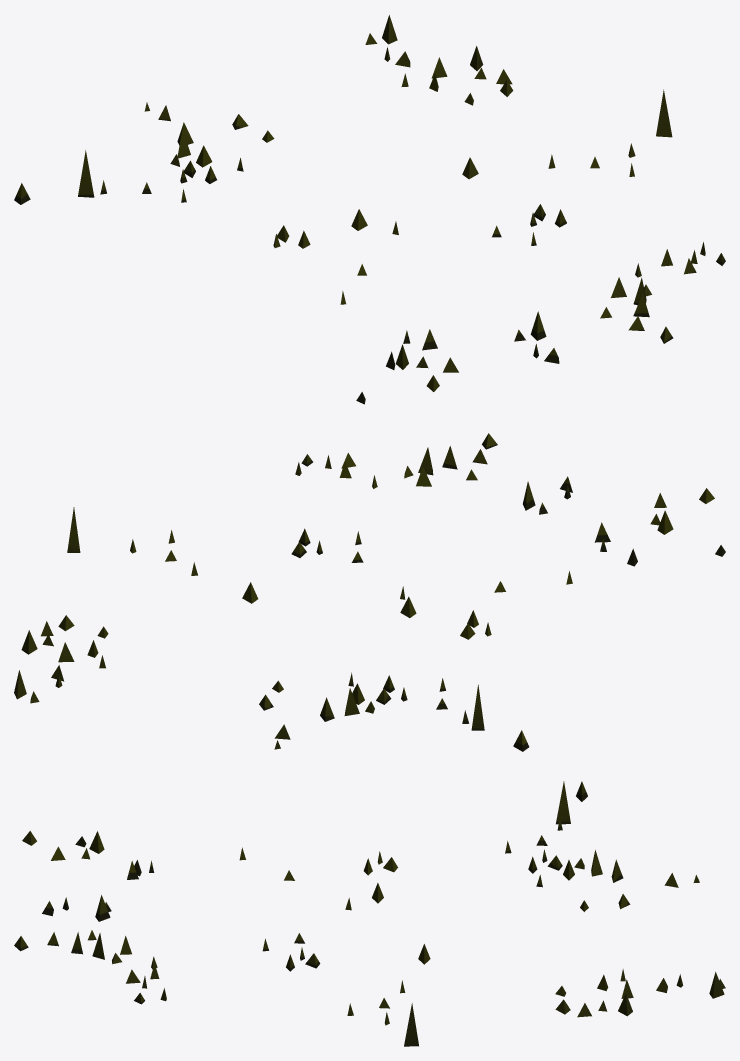
Rendered from Plant_01.FBX.
3 renders of one model, top to bottom at view 1: azimuth 30°, elevation 25°; view 2: azimuth 150°, elevation 25°; view 3: azimuth 270°, elevation 25°, orthographic. The views are drawn at different scales.
Parts seen in each view (by area): view 1: Plant_01; view 2: Plant_01; view 3: Plant_01.
Part boxes in pixels (x1,y1,x2,y2): Plant_01: (14,15,725,404); Plant_01: (14,433,725,751); Plant_01: (14,781,725,1046).
Bounding box in the file's own units: 15.62 × 1.76 × 18.78.
